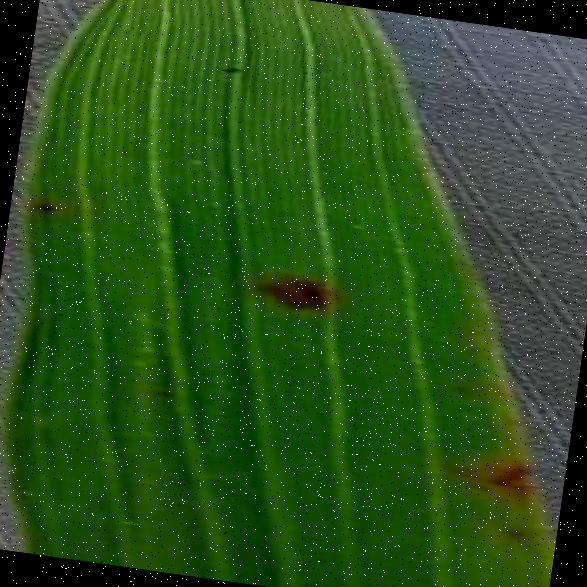Brown_Spot: (235, 251, 343, 329), (446, 442, 542, 505), (482, 453, 538, 499), (206, 51, 256, 84), (494, 514, 536, 550), (24, 188, 66, 222), (441, 370, 478, 402), (447, 458, 483, 482), (470, 479, 492, 495)
